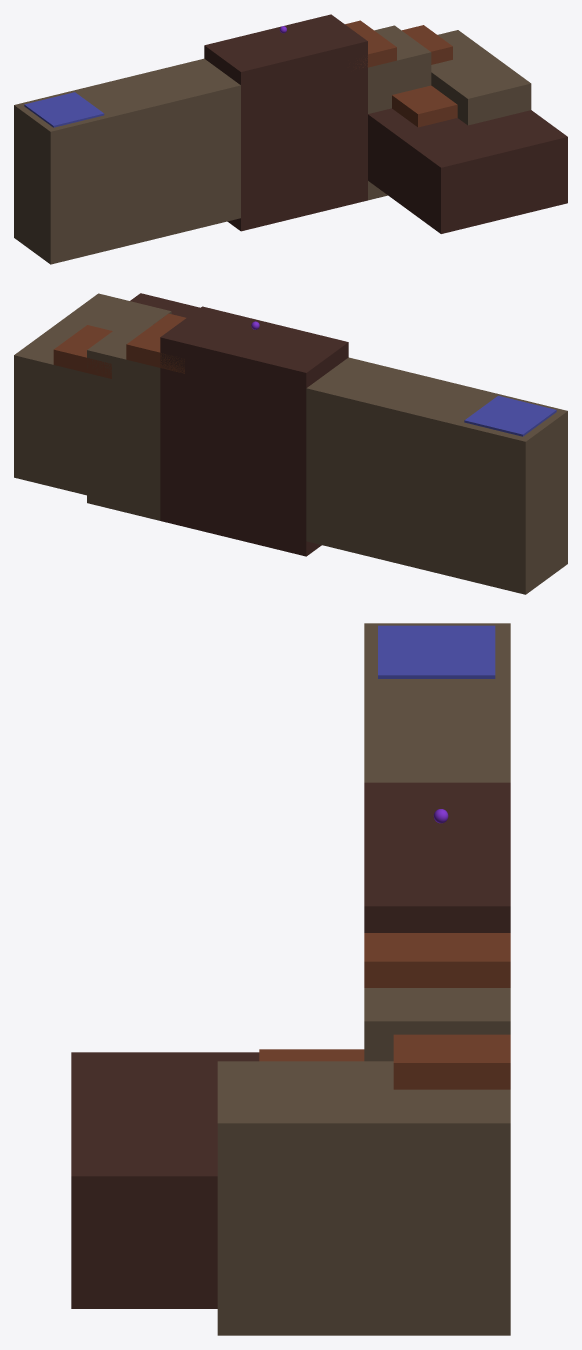
Rendered from Section_1A_1_Entrance.fbx.
The picture shows the model from 3 angles, top to bottom: view 1: azimuth 30°, elevation 25°; view 2: azimuth 150°, elevation 25°; view 3: azimuth 270°, elevation 25°; orthographic projection. The views are drawn at different scales.
Parts seen in each view (by area): view 1: Cube__9_, Cube__16_, Cube__5_, Cube__6_, Cube__7_, Cube__8_, Cube__52_, Cube__66_, Cube__55_, Cube__54_; view 2: Cube__9_, Cube__16_, Cube__7_, Cube__8_, Cube__66_, Cube__54_, Cube__55_, Cube__6_; view 3: Cube__7_, Cube__6_, Cube__16_, Cube__9_, Cube__5_, Cube__55_, Cube__8_, Cube__54_, Cube__66_, Cube__52_.
Part boxes in pixels (x1=…): Cube__9_: x1=14, y1=58, x2=240, y2=264; Cube__16_: x1=204, y1=14, x2=367, y2=231; Cube__5_: x1=368, y1=108, x2=504, y2=233; Cube__6_: x1=468, y1=110, x2=567, y2=218; Cube__7_: x1=431, y1=30, x2=531, y2=125; Cube__8_: x1=368, y1=25, x2=431, y2=200; Cube__52_: x1=392, y1=85, x2=457, y2=127; Cube__66_: x1=24, y1=92, x2=104, y2=127; Cube__55_: x1=345, y1=20, x2=396, y2=68; Cube__54_: x1=402, y1=25, x2=452, y2=64; Cube__9_: x1=306, y1=357, x2=567, y2=594; Cube__16_: x1=160, y1=306, x2=348, y2=556; Cube__7_: x1=14, y1=293, x2=171, y2=495; Cube__8_: x1=87, y1=319, x2=160, y2=520; Cube__66_: x1=464, y1=395, x2=556, y2=436; Cube__54_: x1=53, y1=325, x2=112, y2=378; Cube__55_: x1=126, y1=313, x2=185, y2=373; Cube__6_: x1=130, y1=293, x2=200, y2=317; Cube__7_: x1=217, y1=1061, x2=510, y2=1335; Cube__6_: x1=71, y1=1114, x2=217, y2=1308; Cube__16_: x1=364, y1=782, x2=510, y2=932; Cube__9_: x1=364, y1=623, x2=510, y2=782; Cube__5_: x1=71, y1=1052, x2=259, y2=1114; Cube__55_: x1=364, y1=933, x2=510, y2=987; Cube__8_: x1=364, y1=988, x2=510, y2=1061; Cube__54_: x1=393, y1=1034, x2=510, y2=1089; Cube__66_: x1=378, y1=625, x2=495, y2=678; Cube__52_: x1=259, y1=1049, x2=364, y2=1061.
Bounding box in the file's own units: 3500 × 1325 × 1500.
